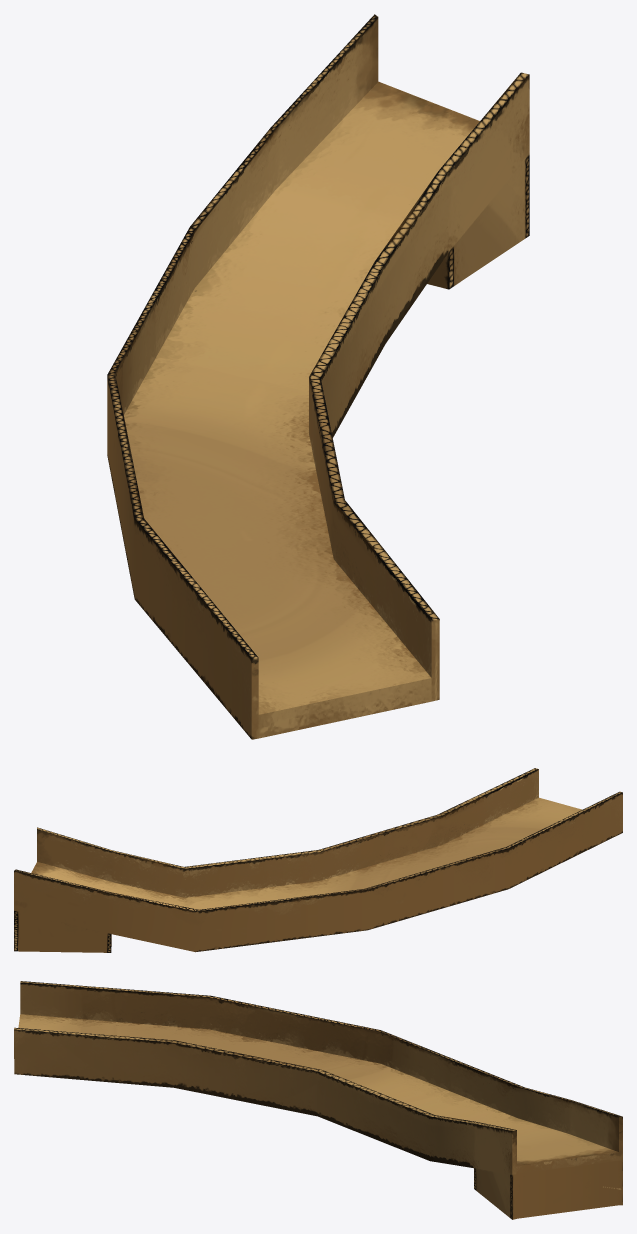
The model's file is SM_Part2_Playtrack.fbx.
3 renders of one model, top to bottom at view 1: azimuth 30°, elevation 25°; view 2: azimuth 150°, elevation 25°; view 3: azimuth 270°, elevation 25°, orthographic. The views are drawn at different scales.
Visible parts, largest first — view 1: Panel_2; view 2: Panel_2; view 3: Panel_2.
Part boxes in pixels (box(x1,y1,x2,y2)): Panel_2: box(107, 14, 529, 739); Panel_2: box(14, 768, 622, 952); Panel_2: box(14, 981, 622, 1219).
Bounding box in the file's own units: 10544 × 2241 × 13949.
